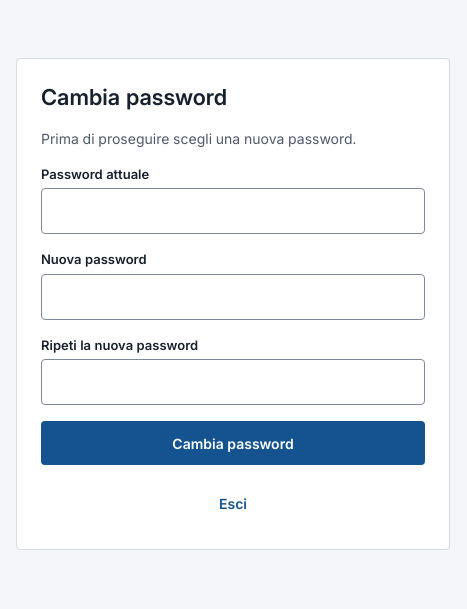
Test: schermata /password › rifiuta una nuova password sotto i 12 caratteri, senza chiamare il servizio
The width and height of the screenshot is (467, 609).
Type "vecchia-password-lunga" into the password field labelled "Password attuale" at (233, 211), box [41,188,425,234]
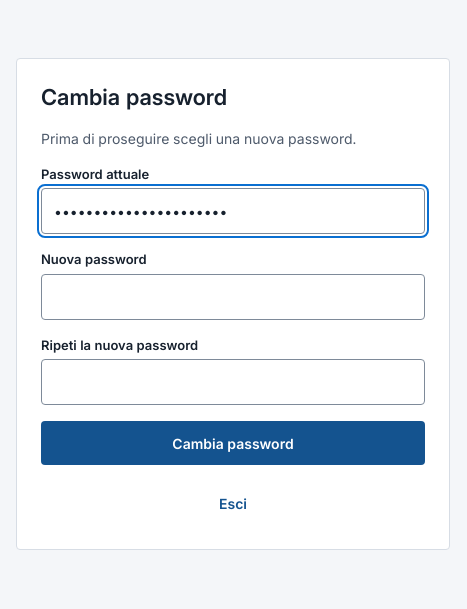
Type "corta" into the password field labelled "Nuova password" at (233, 296), box [41,274,425,320]
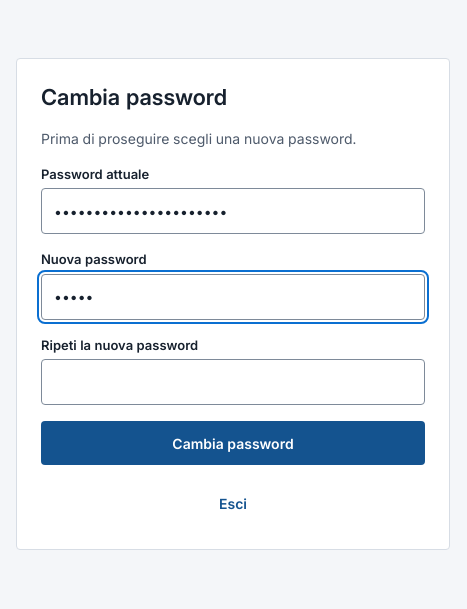
Type "corta" into the password field labelled "Ripeti la nuova password" at (233, 382), box [41,359,425,405]
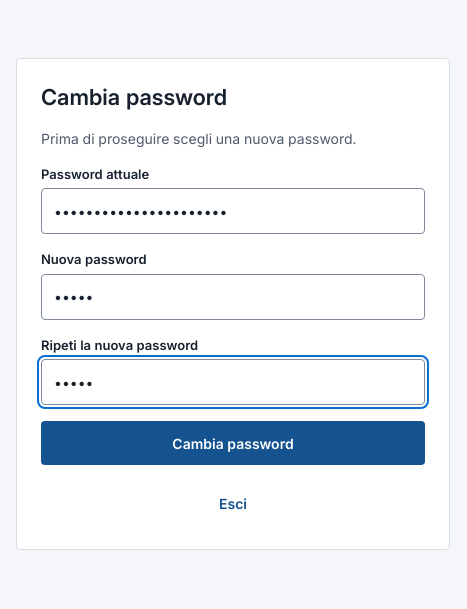
Click the button "Cambia password" at (233, 443), box [41,421,425,465]
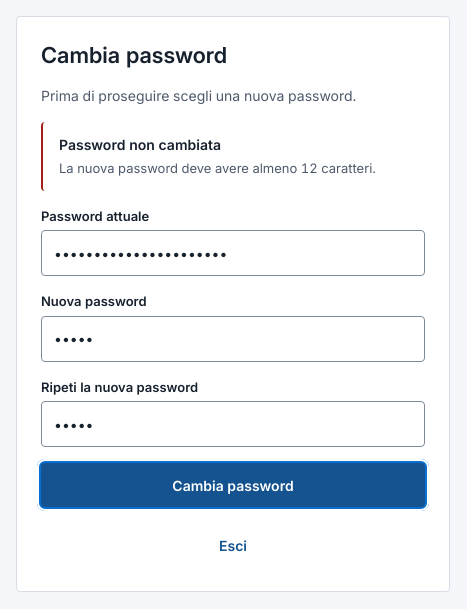
Result: the text "La nuova password deve avere almeno 12 caratteri." is shown at [59,159,409,179]
